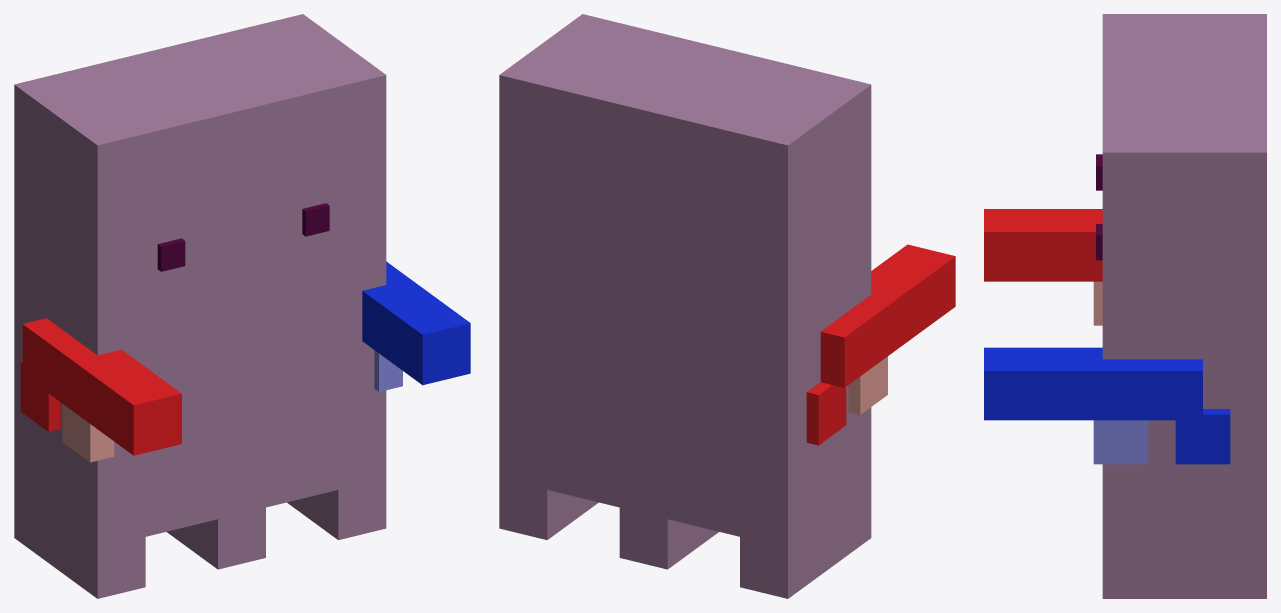
Rendered from ShotSpirit.fbx.
The picture shows the model from 3 angles, left to right: view 1: azimuth 30°, elevation 25°; view 2: azimuth 150°, elevation 25°; view 3: azimuth 270°, elevation 25°; orthographic projection.
Parts seen in each view (by area): view 1: Cube.036, Cube.004, Cube.001, Cube.005, Cube.002, Cube.034, Cube.035; view 2: Cube.036, Cube.004, Cube.005; view 3: Cube.036, Cube.001, Cube.004, Cube.002, Cube.005.
Boxes of the visible parts, box(x1,y1,x2,y2) form: Cube.036: box(14, 14, 386, 598); Cube.004: box(20, 318, 181, 455); Cube.001: box(362, 261, 470, 385); Cube.005: box(62, 404, 114, 462); Cube.002: box(374, 350, 402, 391); Cube.034: box(157, 238, 185, 271); Cube.035: box(302, 203, 329, 236); Cube.036: box(499, 14, 871, 598); Cube.004: box(806, 244, 955, 445); Cube.005: box(848, 356, 887, 414); Cube.036: box(1102, 14, 1266, 598); Cube.001: box(984, 347, 1230, 464); Cube.004: box(984, 209, 1102, 281); Cube.002: box(1093, 420, 1148, 464); Cube.005: box(1093, 281, 1102, 325).
Size of the model in its own units: 140 by 180 by 103.
